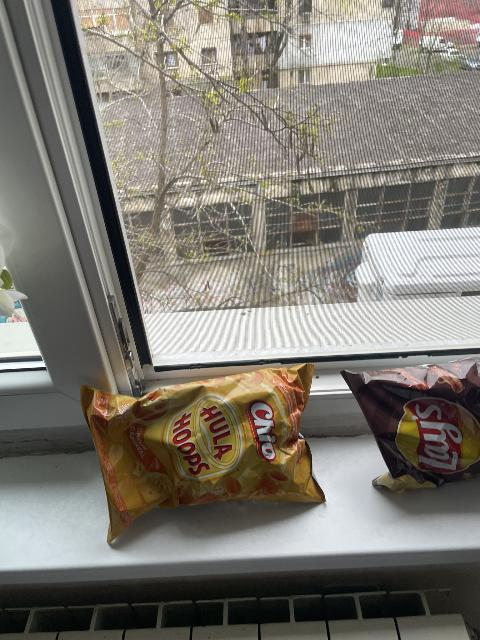Chio Hula Hoops Cheese 70g: (84, 365, 327, 545)
Lays Beef Grilled Ribs 125g: (347, 358, 480, 493)
